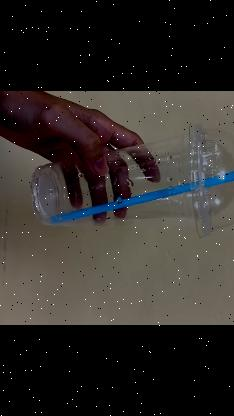Others: (29, 123, 234, 239)
